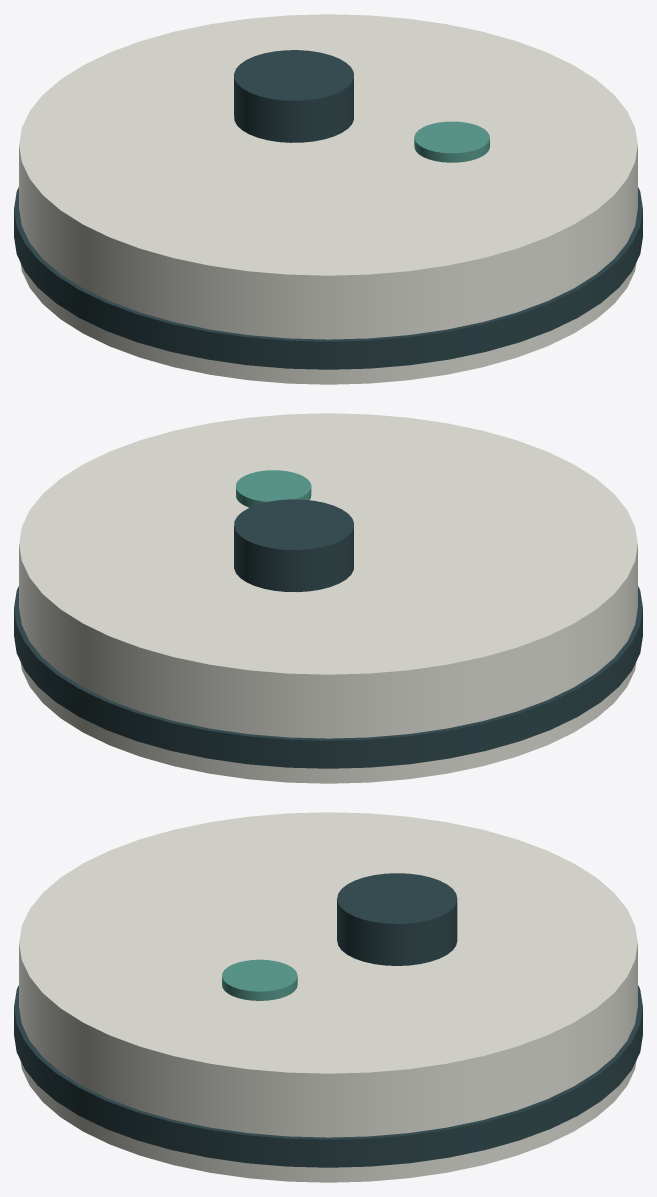
File: robot_vacuum.glb
The picture shows the model from 3 angles, top to bottom: view 1: azimuth 30°, elevation 25°; view 2: azimuth 150°, elevation 25°; view 3: azimuth 270°, elevation 25°; orthographic projection.
Visible parts, largest first — view 1: body, bumper, lidar-turret, STATE_MOTION; view 2: body, bumper, lidar-turret, STATE_MOTION; view 3: body, bumper, lidar-turret, STATE_MOTION.
Part boxes in pixels (x1,y1,x2,y2): body: (19, 14, 637, 384); bumper: (14, 187, 642, 369); lidar-turret: (234, 50, 353, 142); STATE_MOTION: (414, 121, 489, 162); body: (19, 413, 637, 783); bumper: (14, 586, 642, 768); lidar-turret: (234, 499, 353, 592); STATE_MOTION: (236, 470, 311, 507); body: (19, 812, 637, 1182); bumper: (14, 985, 642, 1167); lidar-turret: (337, 873, 457, 965); STATE_MOTION: (222, 959, 297, 1000).
Size of the model in its own units: 0.366 by 0.101 by 0.366.
